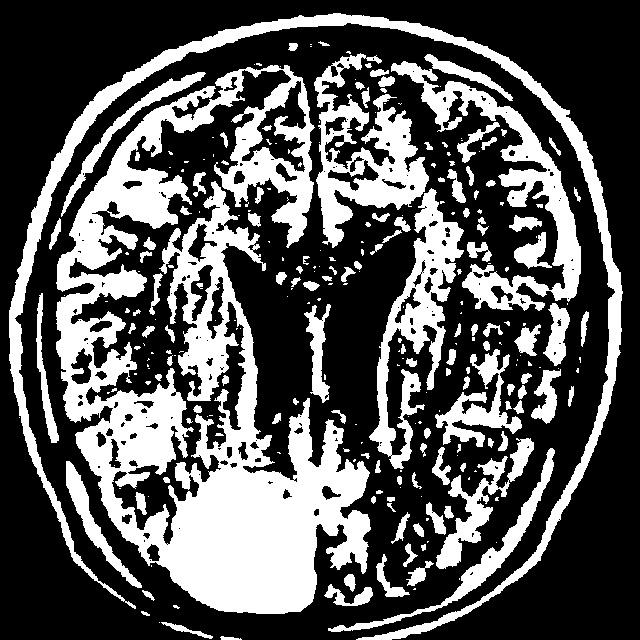Brain-Tumor: (138, 449, 336, 631)
